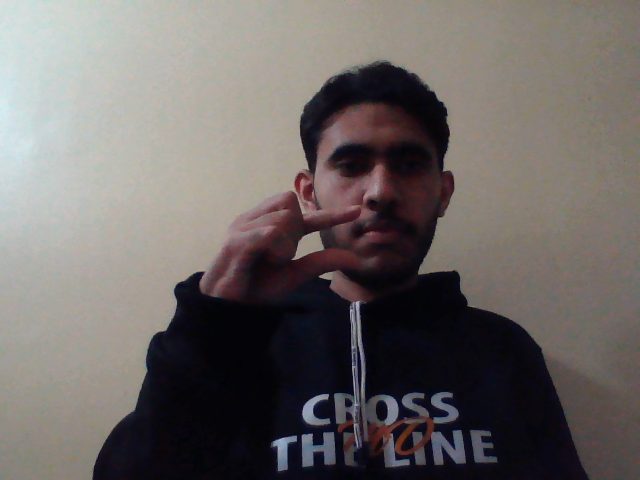G: (194, 189, 366, 321)
